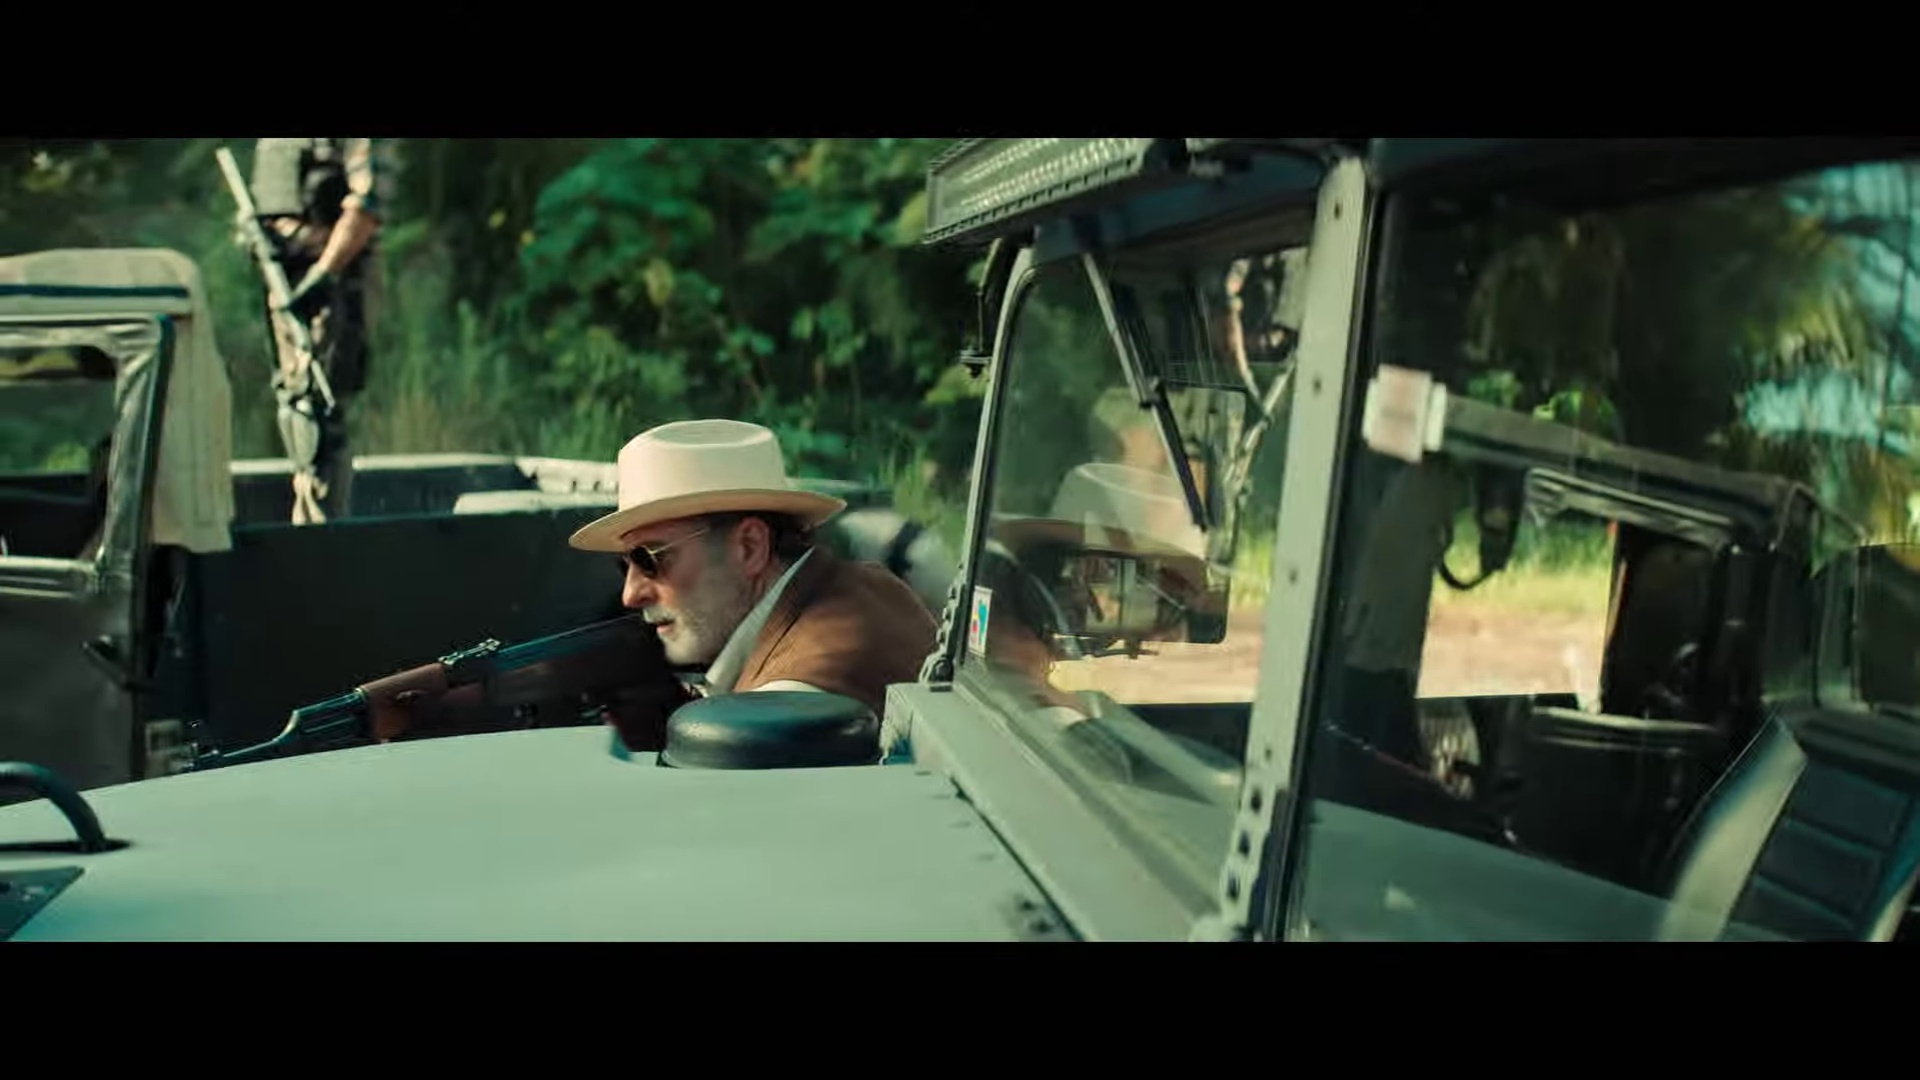gun: (178, 603, 662, 770), (215, 142, 339, 419)
p_w_gun: (174, 418, 951, 779), (207, 136, 385, 525)
